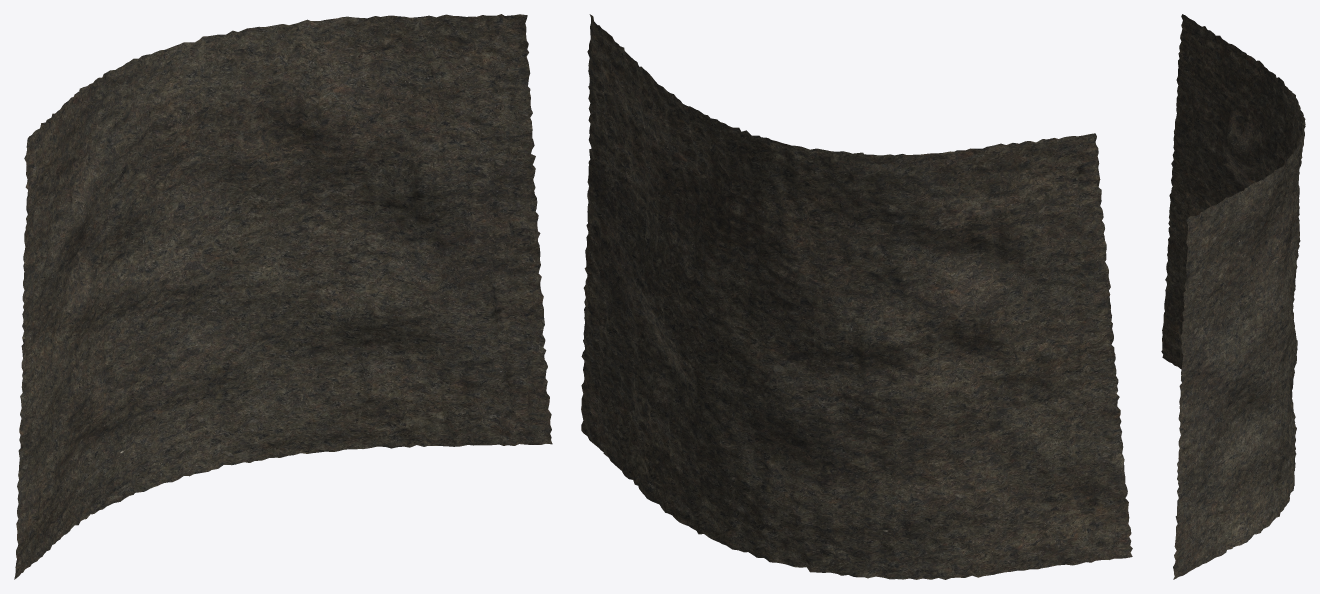
Rendered from 曲がった壁.fbx.
The picture shows the model from 3 angles, left to right: view 1: azimuth 30°, elevation 25°; view 2: azimuth 150°, elevation 25°; view 3: azimuth 270°, elevation 25°; orthographic projection. The views are drawn at different scales.
Parts seen in each view (by area): view 1: グリッド.004; view 2: グリッド.004; view 3: グリッド.004.
Boxes of the visible parts, x1,y1,x2,y2 form: グリッド.004: (14,14,552,579); グリッド.004: (581,14,1132,579); グリッド.004: (1161,14,1305,579).
Size of the model in its own units: 20.7 by 16.08 by 5.73.
Materials: 1 (1 with a texture image).
